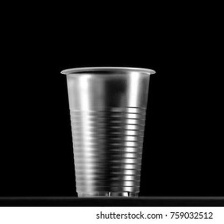glass: (56, 62, 161, 200)
